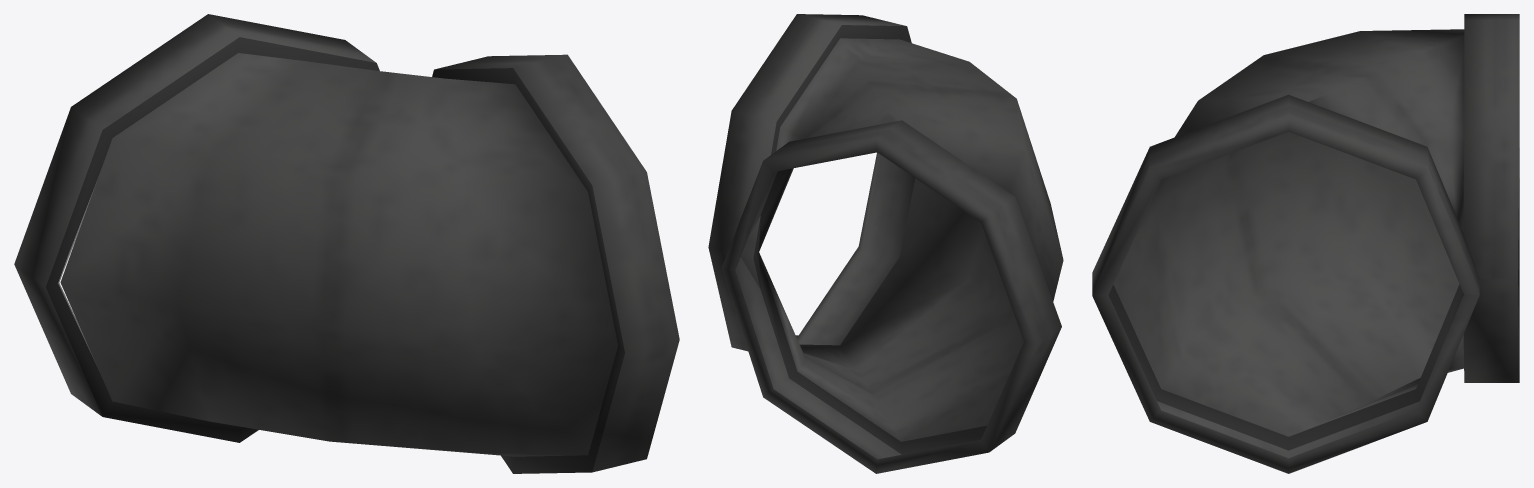
File: PipeCurve.fbx
3 views of the same model, side by side, from view 1: azimuth 30°, elevation 25°; view 2: azimuth 150°, elevation 25°; view 3: azimuth 270°, elevation 25° (orthographic). The views are drawn at different scales.
Visible parts, largest first — view 1: PipeCurve; view 2: PipeCurve; view 3: PipeCurve.
Part boxes in pixels (x1,y1,x2,y2): PipeCurve: (14,14,679,473); PipeCurve: (708,14,1063,473); PipeCurve: (1092,14,1519,473).
Bounding box in the file's own units: 45.55 × 41.88 × 45.57.
